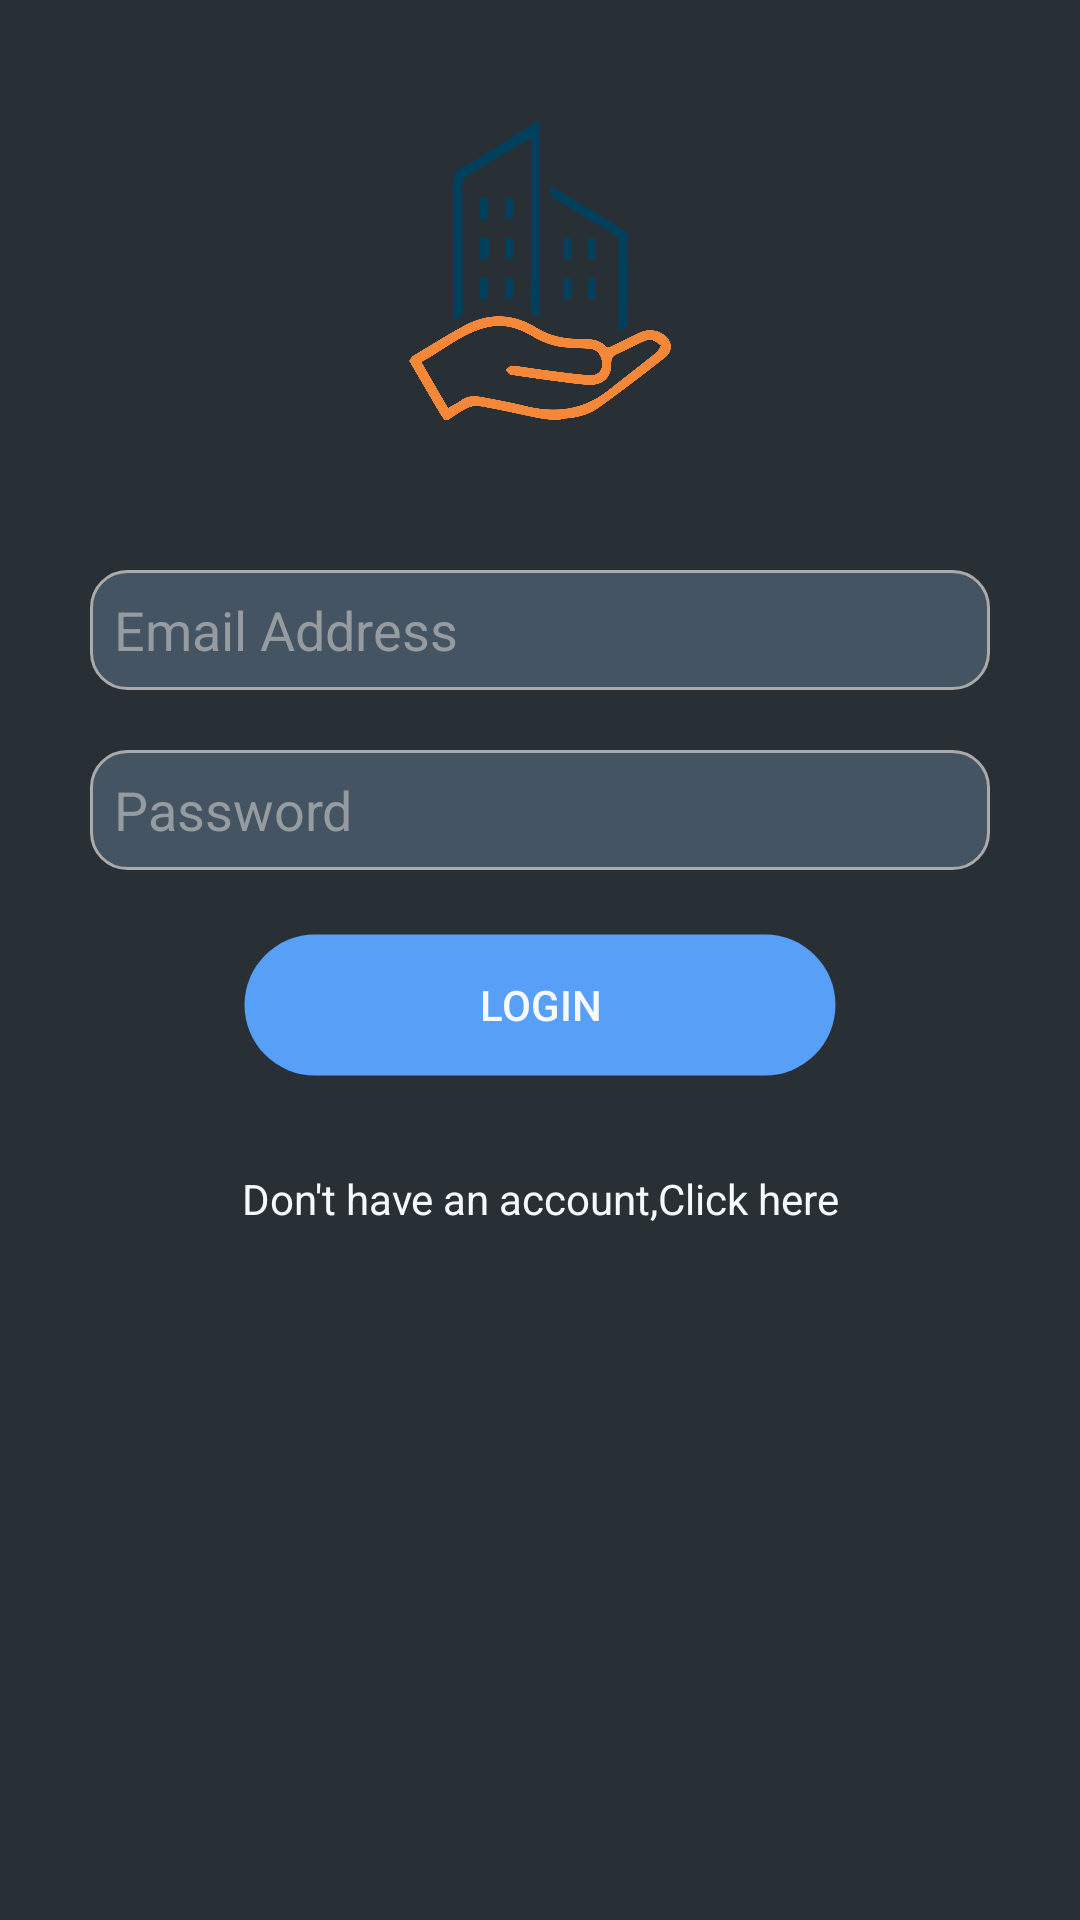

Screen size 1080 × 1920. Icon name, then its box in pixels as bbox(x1, y1, x2, y2):
iproperty: bbox(409, 120, 671, 420)
